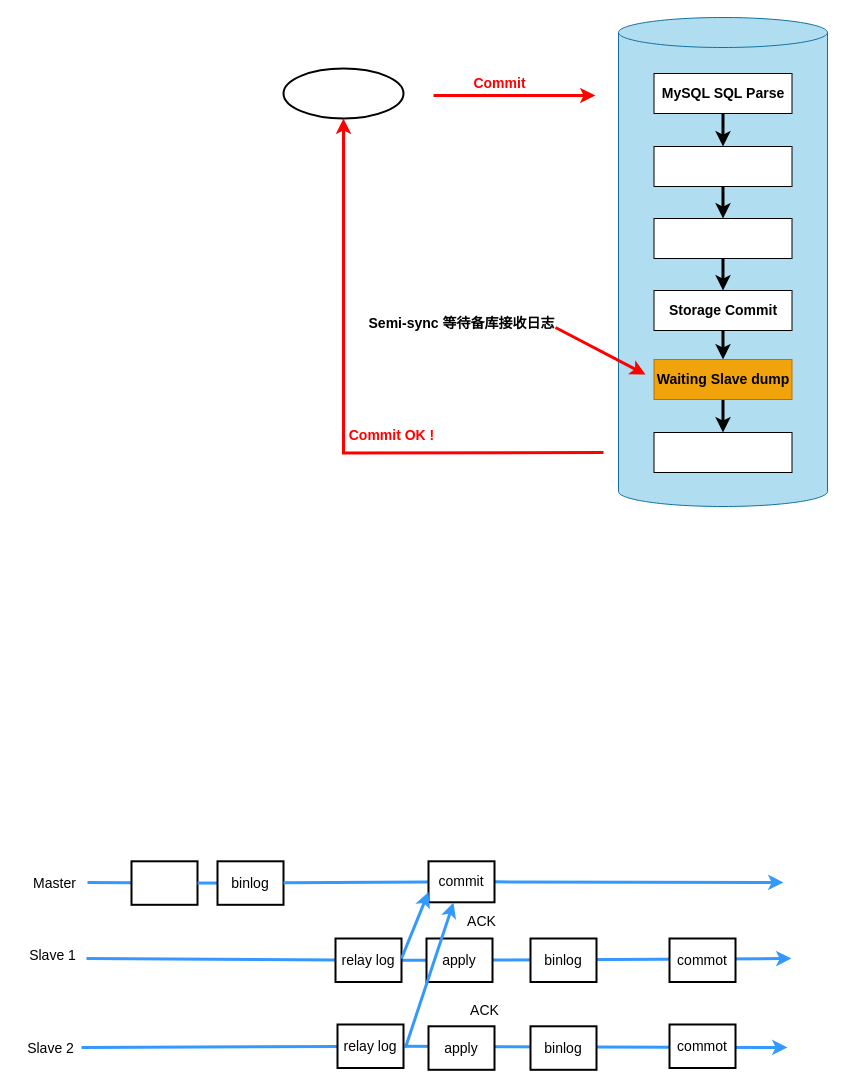
Some shapes in this 845 by 1088 pixel diagram are drawn without their labels. The centre of each missing label's shape, as x and y in pixels:
Client: the point at 343,93
execut: the point at 164,882
Return to Client: the point at 722,452
Storage Involve: the point at 722,166
Write Binary Log: the point at 722,238
